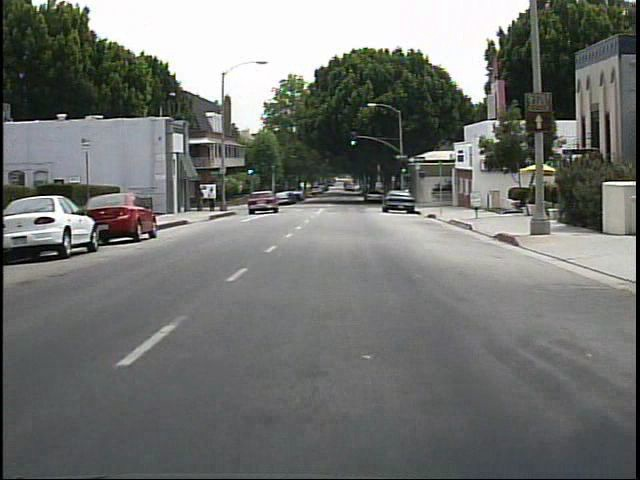person: (194, 187, 207, 215), (209, 188, 221, 214)
